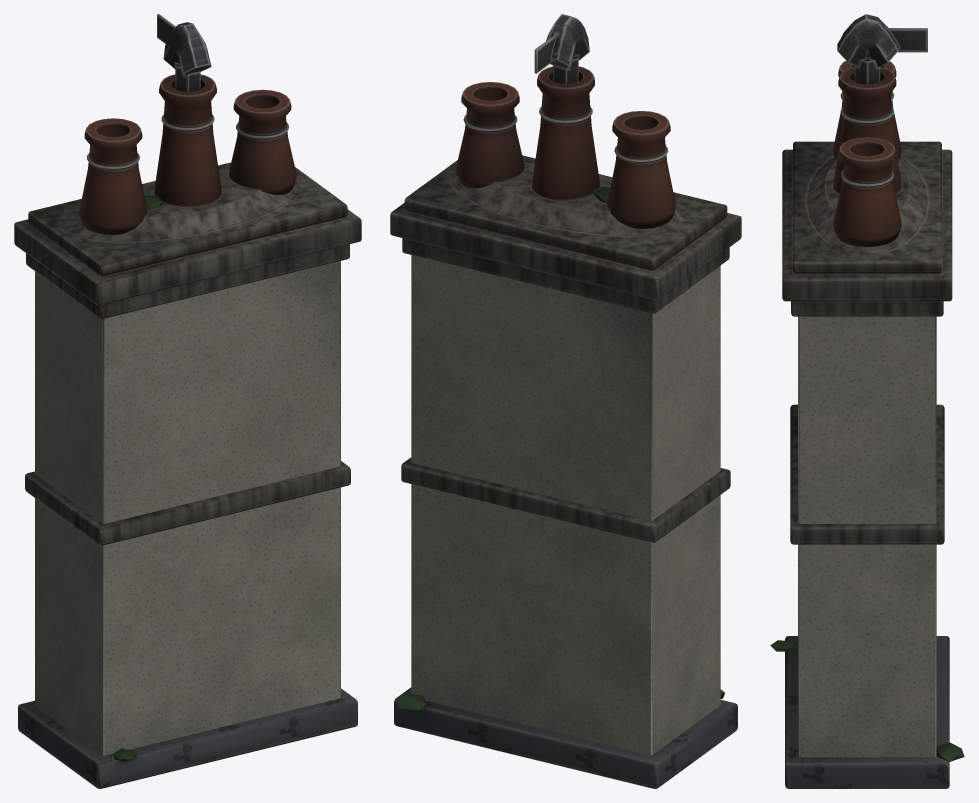
Rendered from ChimneyStack.fbx.
The picture shows the model from 3 angles, left to right: view 1: azimuth 30°, elevation 25°; view 2: azimuth 150°, elevation 25°; view 3: azimuth 270°, elevation 25°; orthographic projection.
Parts seen in each view (by area): view 1: ChimneyStack_Stone, ChimneyStack_Main; view 2: ChimneyStack_Stone, ChimneyStack_Main; view 3: ChimneyStack_Stone, ChimneyStack_Main.
Boxes of the visible parts, x1,y1,x2,y2 form: ChimneyStack_Stone: (35, 261, 340, 755); ChimneyStack_Main: (14, 14, 361, 788); ChimneyStack_Stone: (411, 255, 720, 755); ChimneyStack_Main: (390, 14, 741, 788); ChimneyStack_Stone: (798, 316, 936, 757); ChimneyStack_Main: (770, 14, 964, 788).
Bounding box in the file's own units: 356 × 903 × 224.
